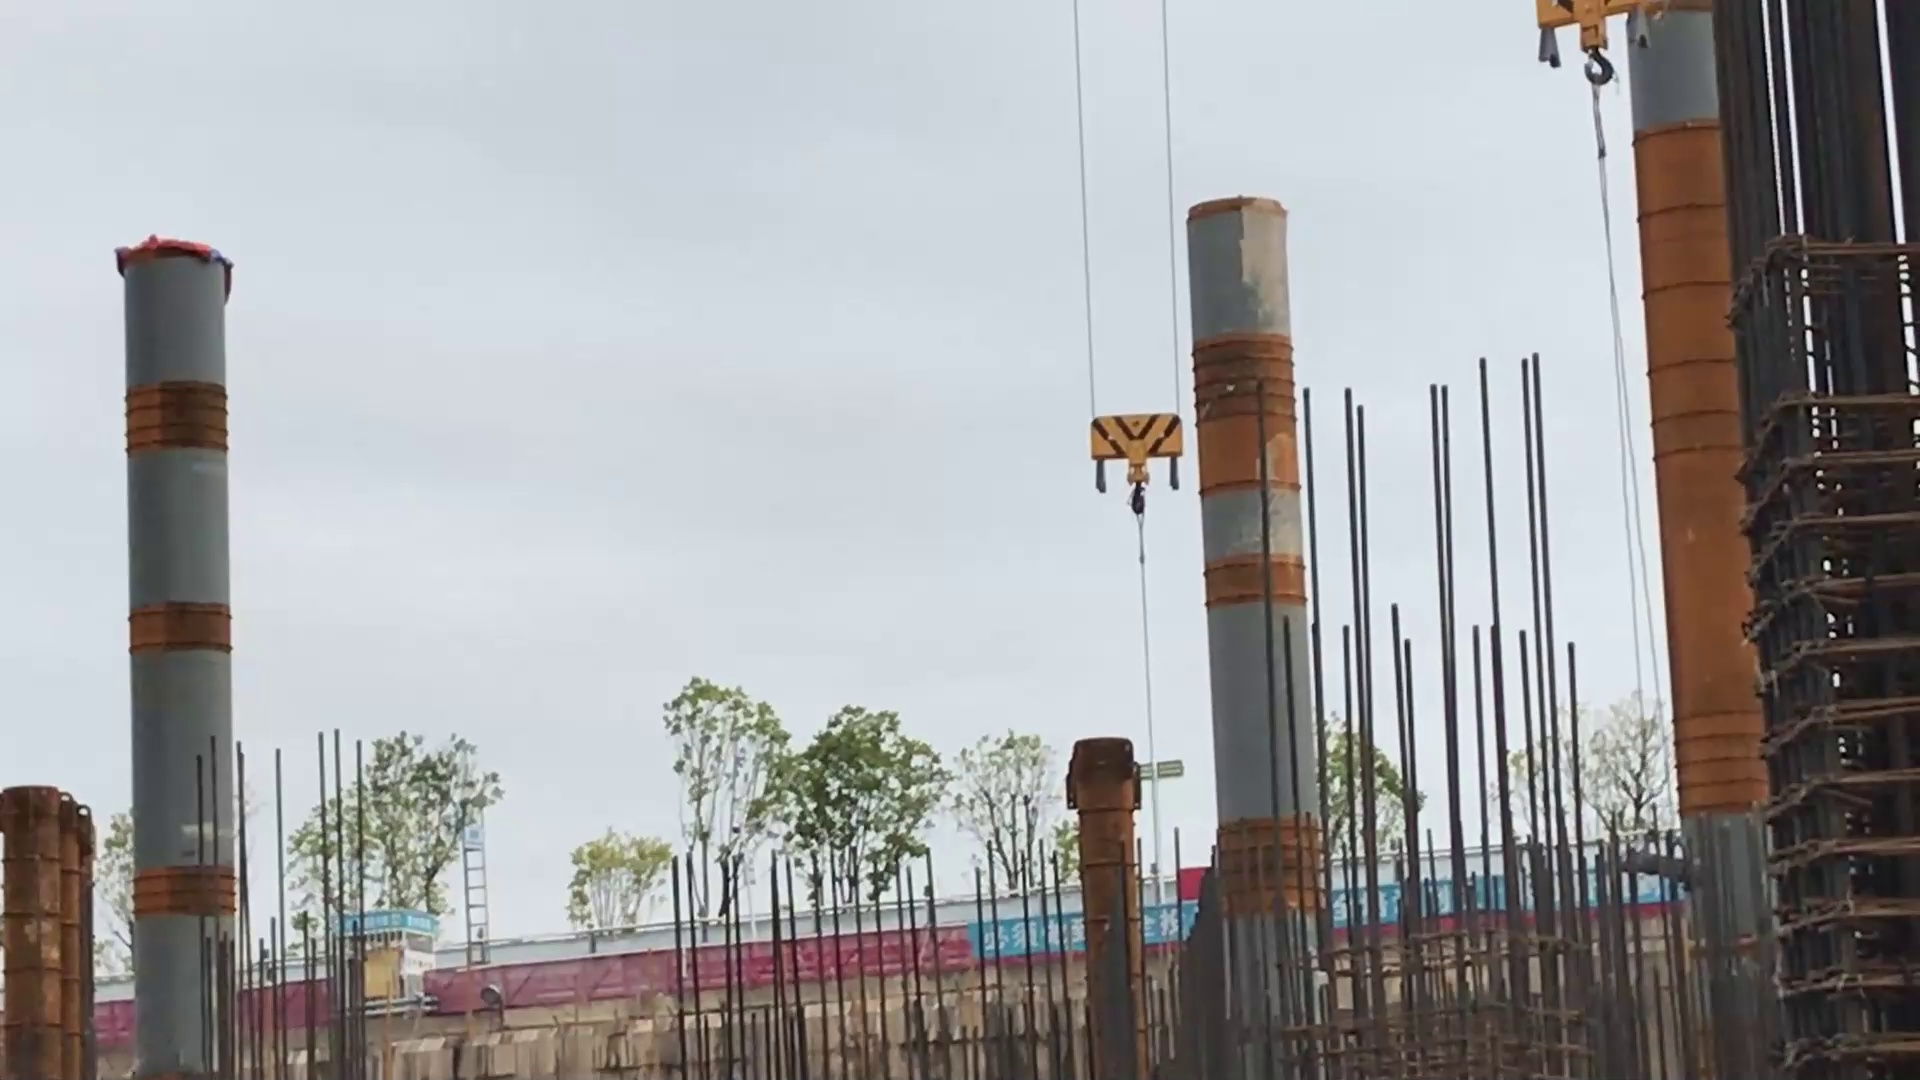fence: (9, 843, 1756, 1029)
hook: (1073, 406, 1192, 527), (1532, 1, 1656, 87)
slogan: (956, 874, 1713, 932)
